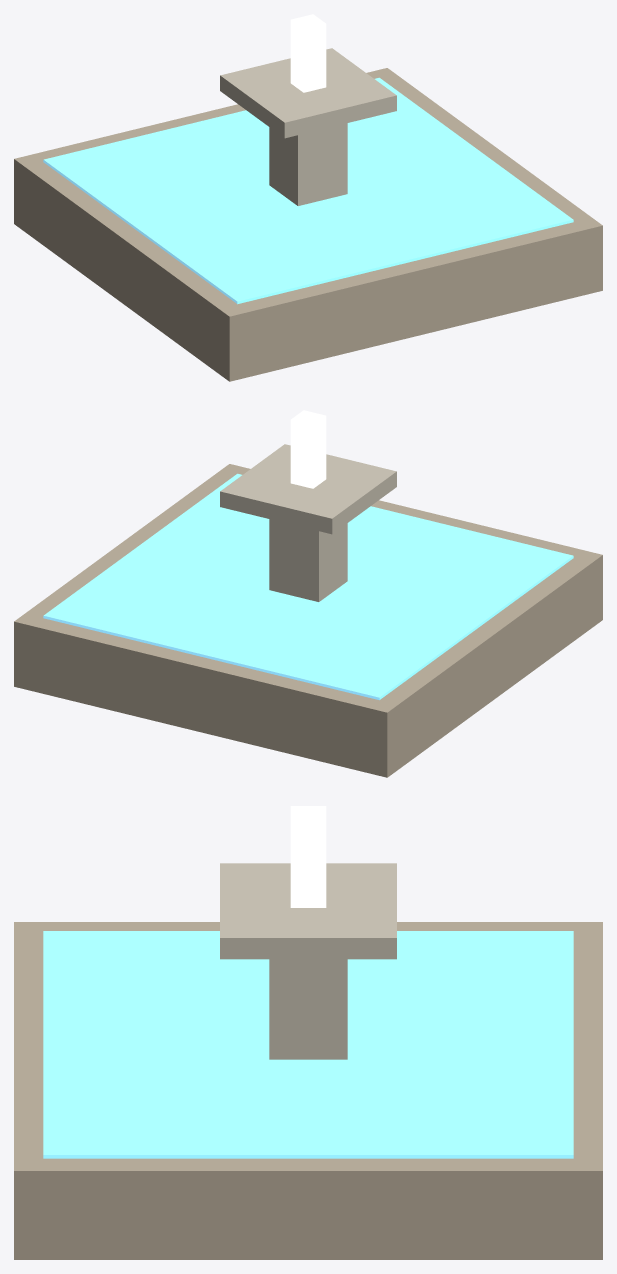
File: mall_fountain.glb
The picture shows the model from 3 angles, top to bottom: view 1: azimuth 30°, elevation 25°; view 2: azimuth 150°, elevation 25°; view 3: azimuth 270°, elevation 25°; orthographic projection. The views are drawn at different scales.
Visible parts, largest first — view 1: Box2, Box1, Box4, Box3, Box5; view 2: Box2, Box1, Box4, Box3, Box5; view 3: Box2, Box1, Box4, Box3, Box5.
Boxes of the visible parts, left/top/right/bottom form: Box2: left=43, top=77, right=573, bottom=304; Box1: left=14, top=68, right=602, bottom=381; Box4: left=220, top=48, right=396, bottom=138; Box3: left=269, top=123, right=347, bottom=205; Box5: left=290, top=14, right=326, bottom=92; Box2: left=43, top=473, right=573, bottom=700; Box1: left=14, top=464, right=602, bottom=777; Box4: left=220, top=444, right=396, bottom=534; Box3: left=269, top=519, right=347, bottom=601; Box5: left=290, top=410, right=326, bottom=488; Box2: left=43, top=931, right=573, bottom=1158; Box1: left=14, top=922, right=602, bottom=1259; Box4: left=220, top=863, right=396, bottom=959; Box3: left=269, top=959, right=347, bottom=1059; Box5: left=290, top=806, right=326, bottom=907.
Bounding box in the file's own units: 3 × 1.81 × 3.
